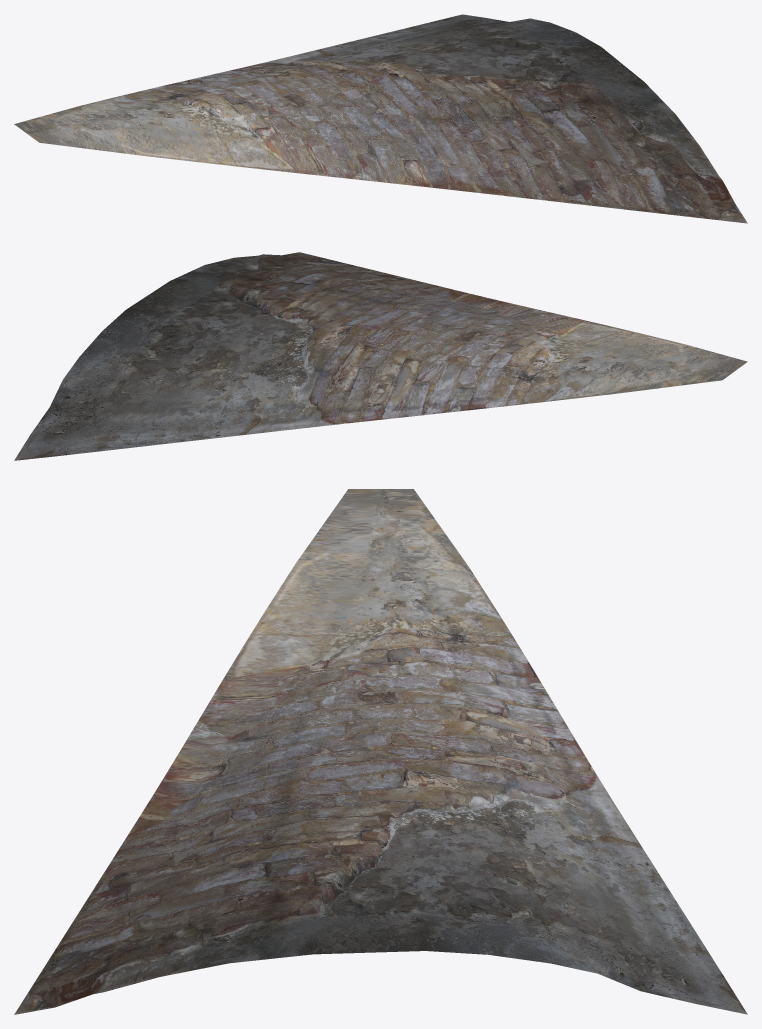
The model's file is sm_CryptCeiling_02_01.fbx.
The picture shows the model from 3 angles, top to bottom: view 1: azimuth 30°, elevation 25°; view 2: azimuth 150°, elevation 25°; view 3: azimuth 270°, elevation 25°; orthographic projection. The views are drawn at different scales.
Parts seen in each view (by area): view 1: sm_CryptCeiling_02_01_LOD0; view 2: sm_CryptCeiling_02_01_LOD0; view 3: sm_CryptCeiling_02_01_LOD0.
Part boxes in pixels (left/top/right/bottom): sm_CryptCeiling_02_01_LOD0: left=14, top=14, right=747, bottom=223; sm_CryptCeiling_02_01_LOD0: left=14, top=252, right=747, bottom=460; sm_CryptCeiling_02_01_LOD0: left=14, top=489, right=747, bottom=1014.
Size of the model in its own units: 300 by 251 by 61.44.
